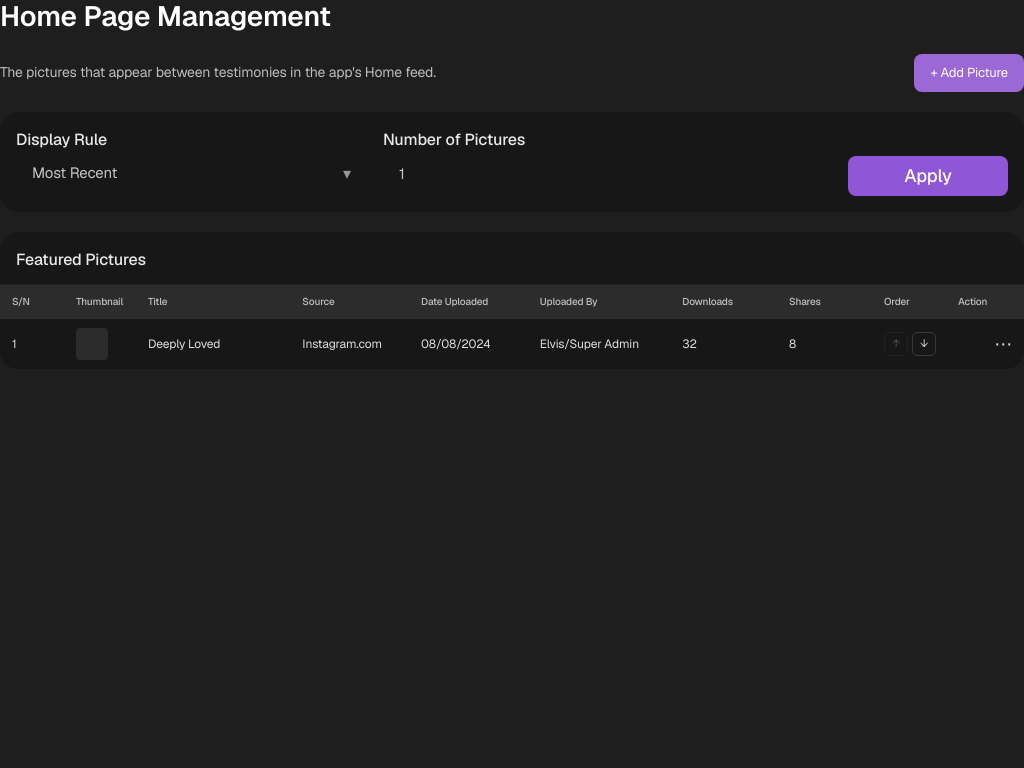
Test case: HomeManagementPage › canceling the apply confirmation submits nothing
What coordinates should you click on to do the following:
click the button "Apply"
I would click on:
 (928, 176)
Its box is [848,156,1008,196].
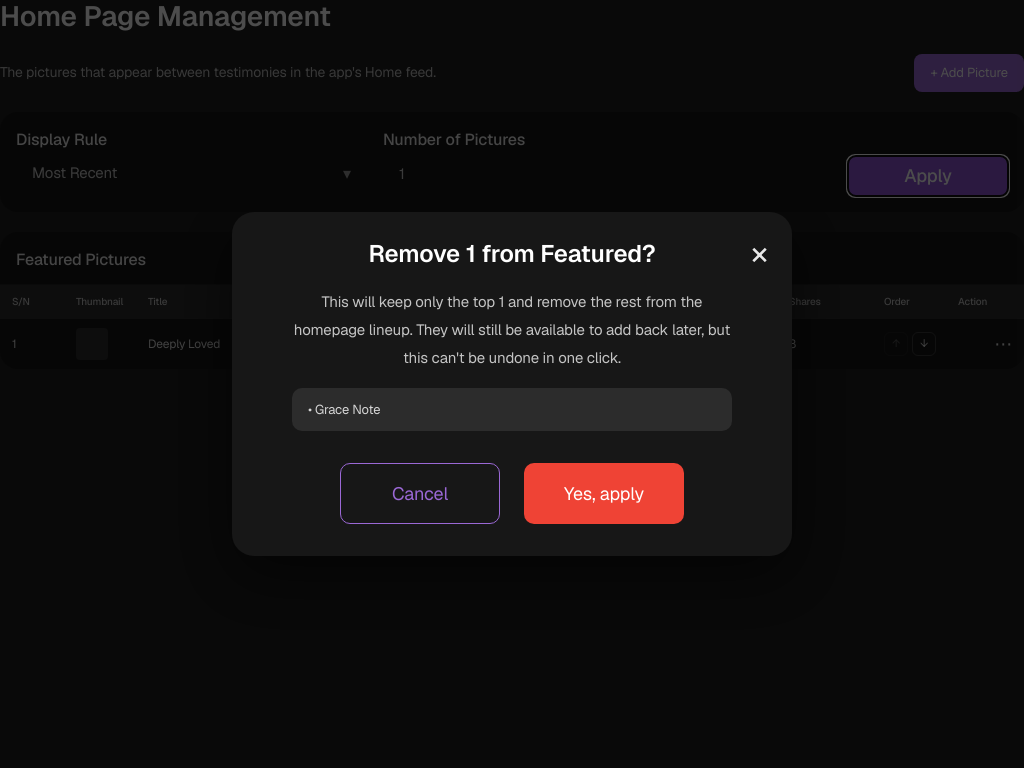
What coordinates should you click on to do the following:
click the button "Cancel"
I would click on:
 (420, 494)
Its box is [340,463,500,524].
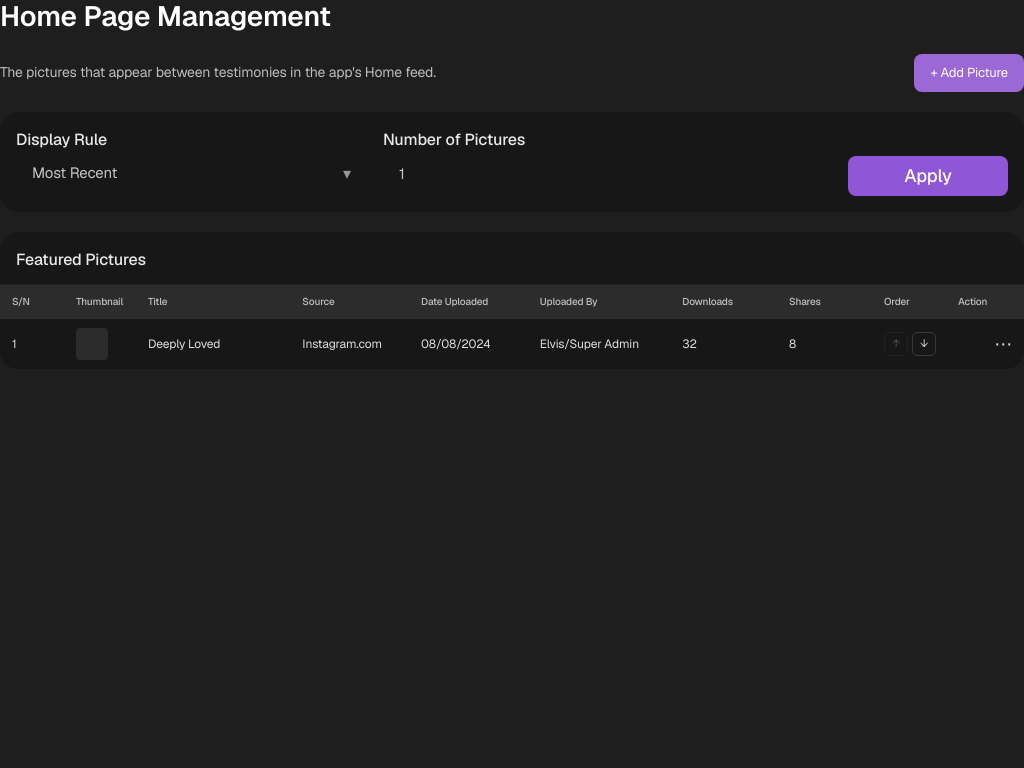
Now the heading "Remove 1 from Featured?" is gone
